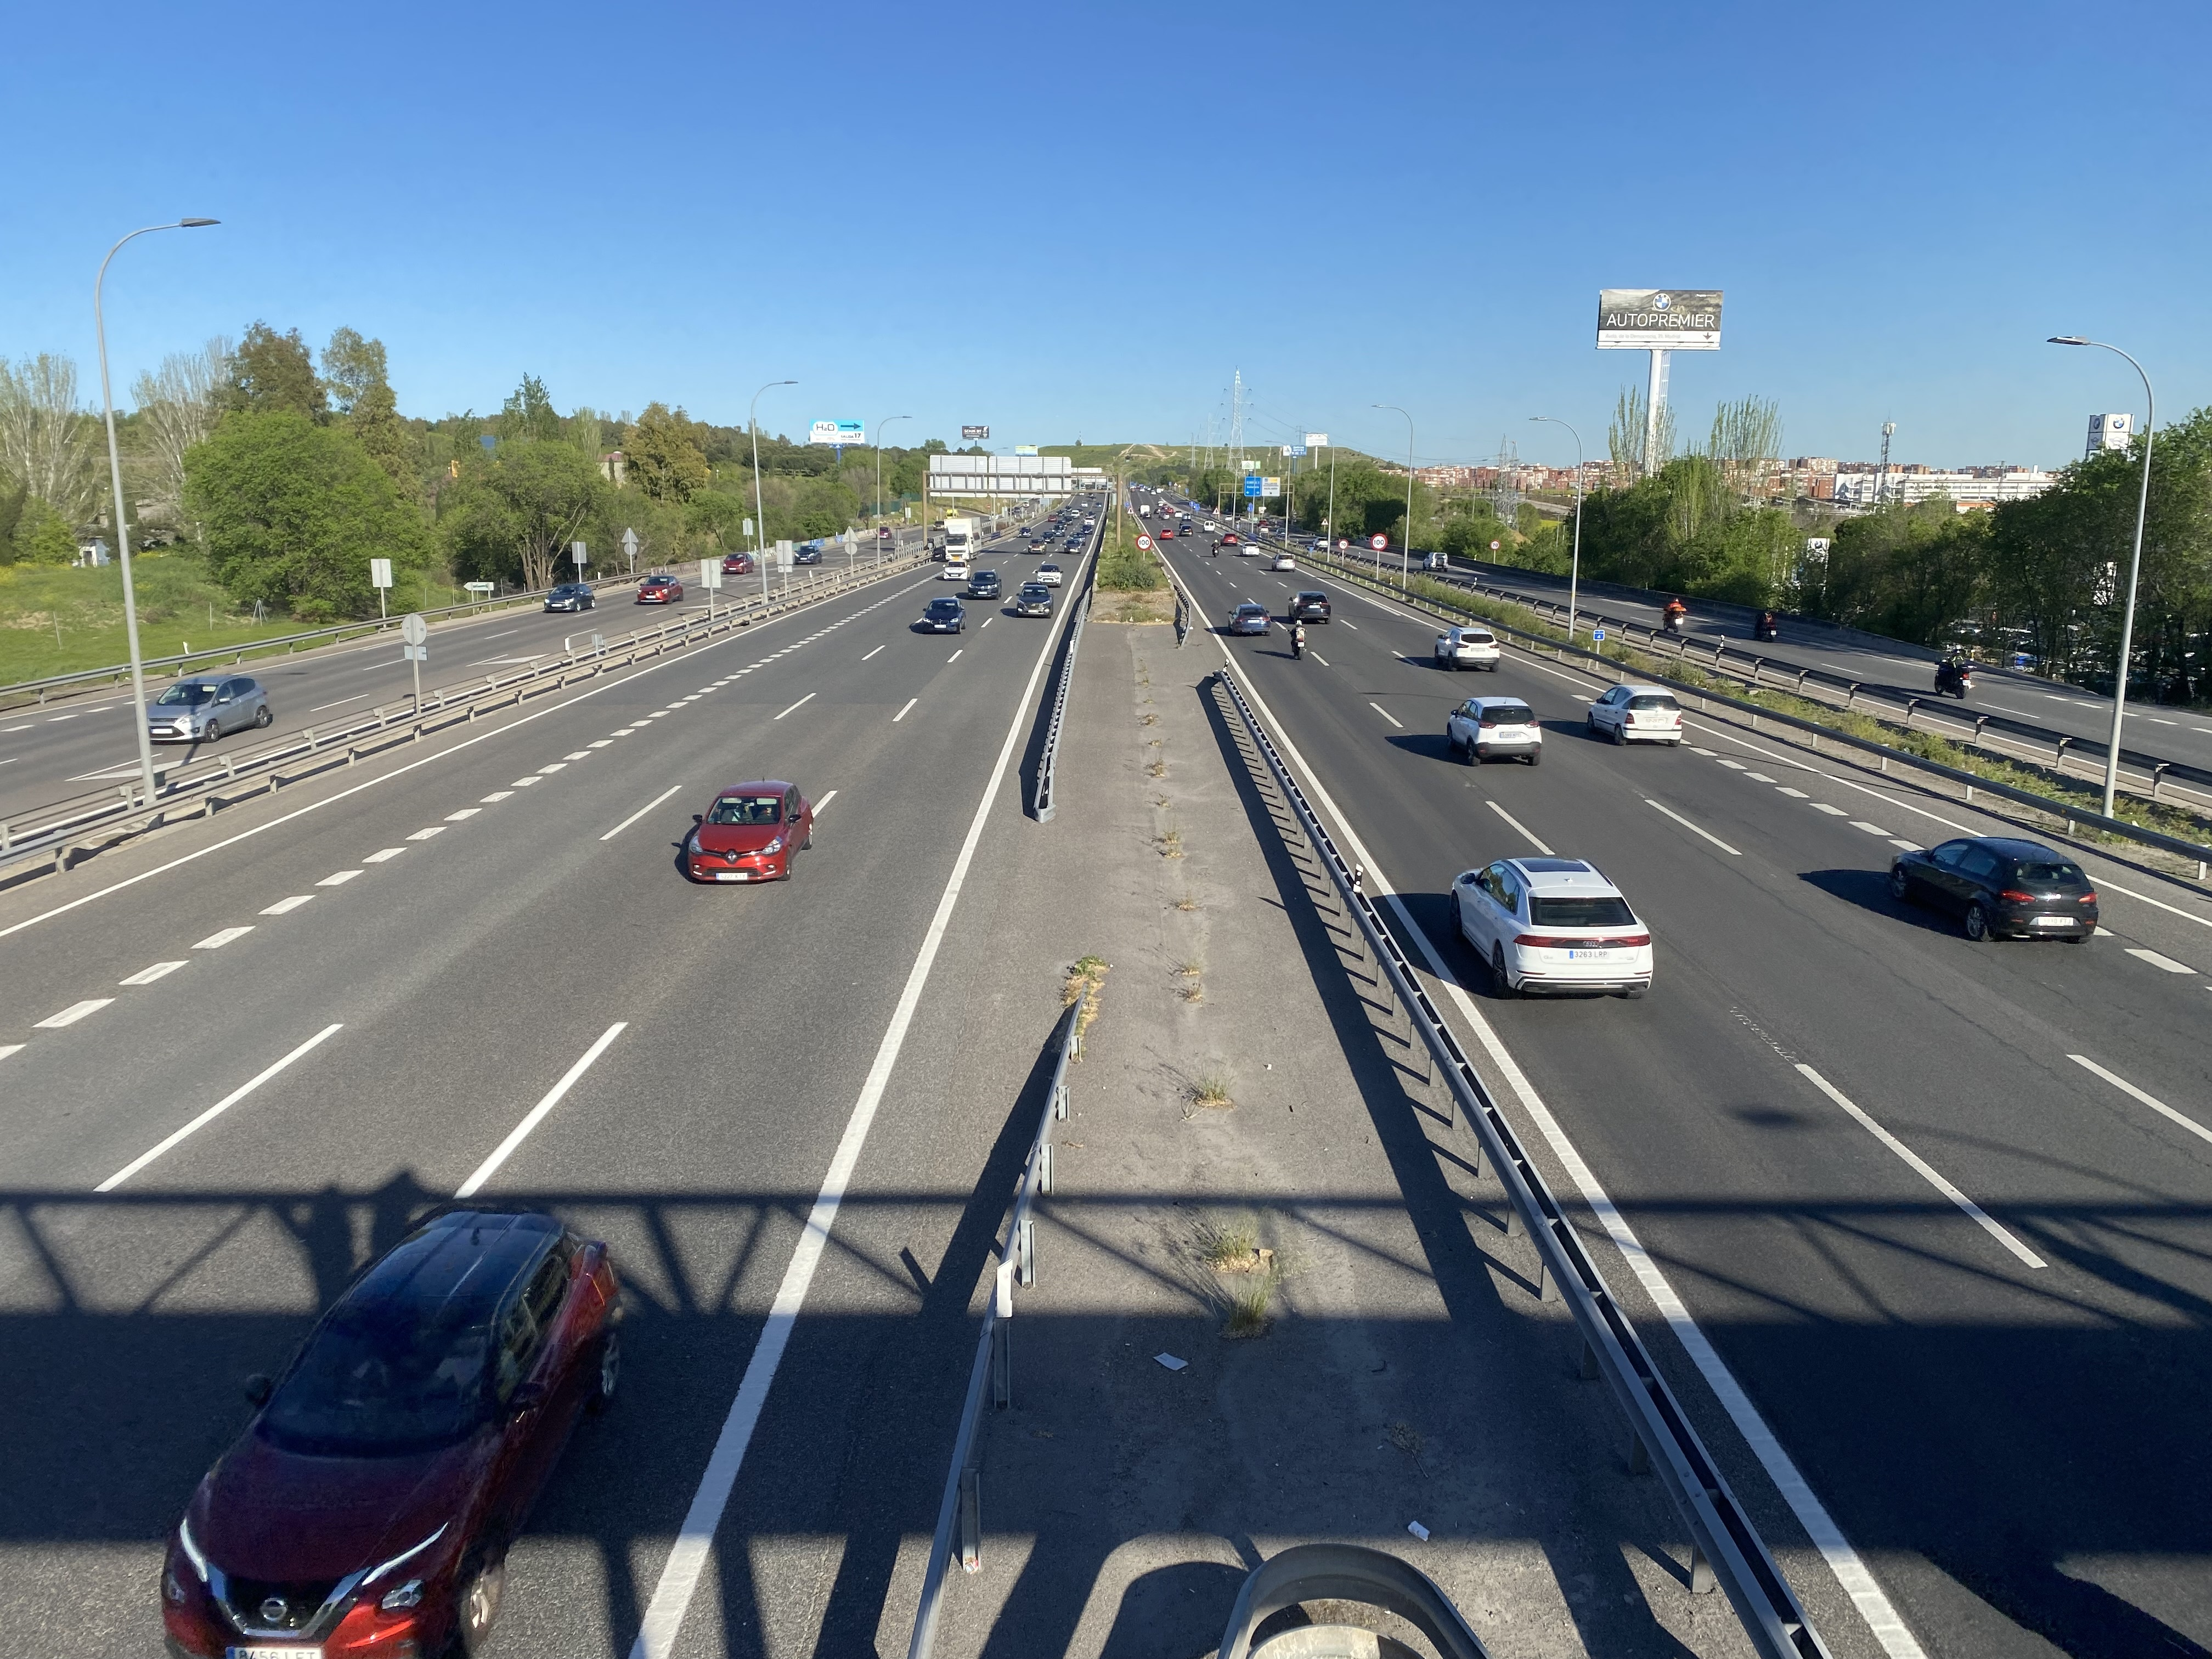cars: (162, 1206, 624, 1656), (1451, 856, 1653, 995), (1888, 836, 2097, 943), (685, 781, 813, 882), (148, 674, 270, 741), (1447, 697, 1541, 765), (1588, 683, 1683, 746), (1433, 626, 1500, 669), (911, 596, 963, 633), (543, 582, 594, 613), (1008, 582, 1052, 617), (636, 573, 683, 605), (1933, 657, 1968, 699), (1289, 591, 1331, 622), (1228, 603, 1270, 634), (967, 568, 1001, 599), (723, 551, 754, 575), (794, 540, 822, 565), (1035, 563, 1062, 586), (2010, 650, 2038, 671), (941, 563, 970, 580), (1271, 552, 1296, 572), (1064, 535, 1085, 552), (1219, 530, 1240, 545), (1240, 542, 1261, 558), (1158, 528, 1174, 540)
